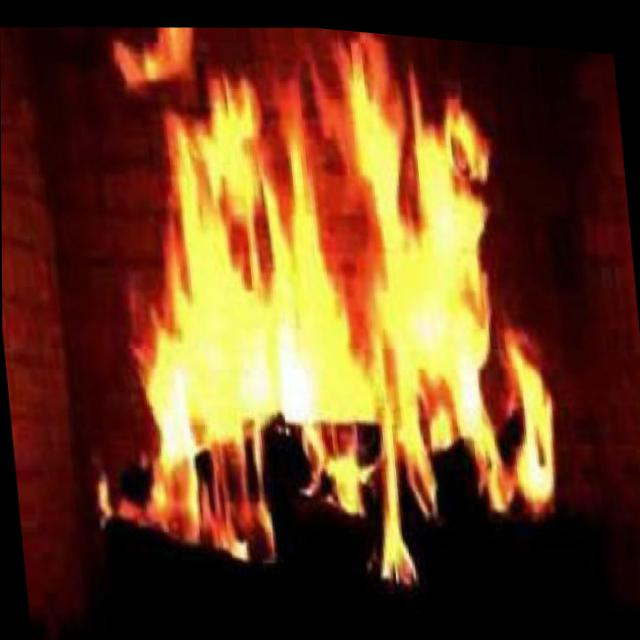Fire: (123, 27, 542, 513)
